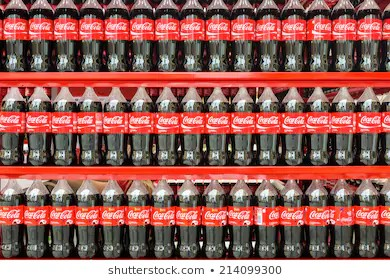coke-bottle-2l: (25, 82, 54, 168), (199, 178, 230, 257), (203, 83, 232, 166), (255, 178, 285, 258), (124, 177, 152, 259), (181, 85, 209, 166), (309, 86, 337, 167), (78, 84, 105, 167), (101, 83, 128, 165), (24, 180, 51, 260), (235, 83, 260, 166), (98, 181, 124, 260), (306, 180, 332, 259), (284, 84, 309, 165), (332, 180, 358, 257), (51, 1, 79, 72), (172, 184, 199, 257), (231, 176, 255, 258), (51, 178, 74, 262), (131, 87, 156, 164), (154, 87, 179, 164), (2, 1, 29, 71), (205, 1, 232, 71), (260, 83, 283, 165), (335, 88, 359, 165), (308, 1, 335, 69), (106, 1, 131, 71), (153, 1, 178, 71), (232, 1, 257, 70), (356, 1, 381, 70), (1, 90, 24, 165), (284, 179, 305, 261), (360, 85, 382, 163), (56, 85, 77, 166), (30, 1, 54, 71), (180, 1, 204, 71), (283, 1, 307, 71), (152, 184, 175, 255), (82, 1, 106, 69), (2, 177, 21, 260), (133, 1, 155, 71), (258, 1, 280, 71), (335, 1, 357, 68)
